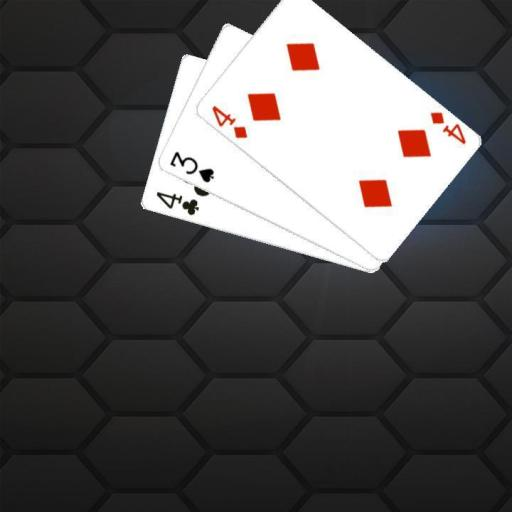card-corner: (166, 148, 216, 184), (208, 102, 249, 140), (426, 108, 467, 146), (152, 188, 200, 217)
